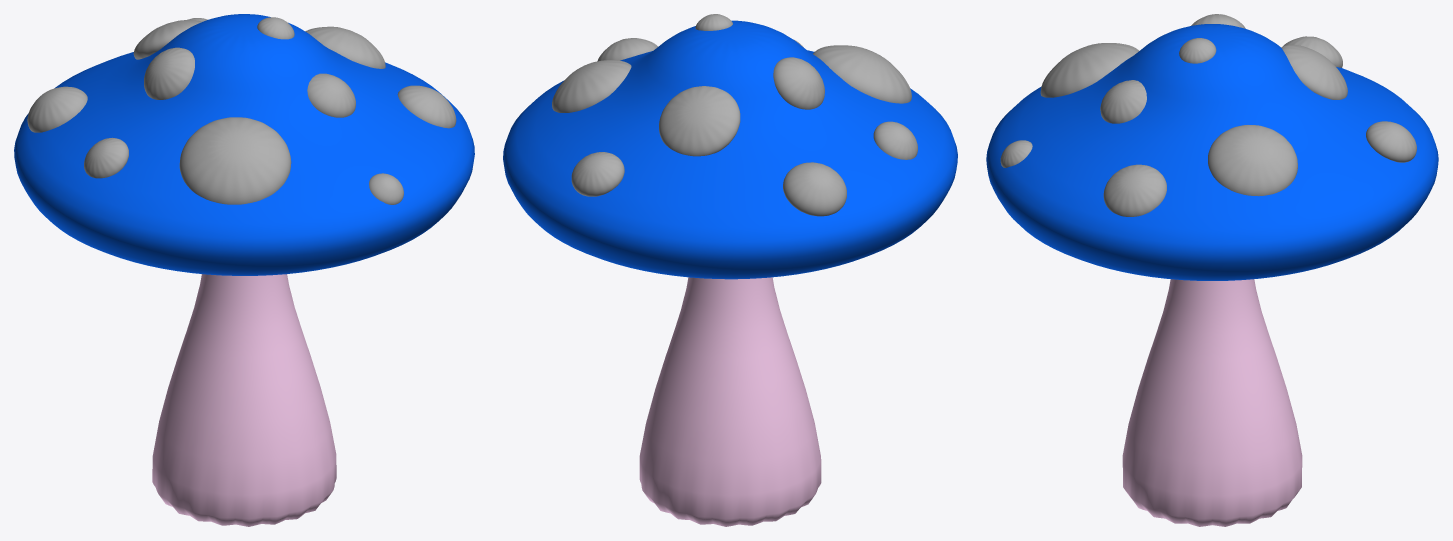
File: fin_mushroom.fbx
3 views of the same model, side by side, from view 1: azimuth 30°, elevation 25°; view 2: azimuth 150°, elevation 25°; view 3: azimuth 270°, elevation 25° (orthographic).
Parts seen in each view (by area): view 1: mushroom3, pCylinder4, pCylinder6, pCylinder5, pCylinder8, pCylinder12, pCylinder3, pCylinder9, pCylinder2, pCylinder10, pCylinder11; view 2: mushroom3, pCylinder2, pCylinder4, pCylinder5, pCylinder8, pCylinder6, pCylinder7, pCylinder9, pCylinder3; view 3: mushroom3, pCylinder8, pCylinder4, pCylinder3, pCylinder2, pCylinder12, pCylinder7, pCylinder11, pCylinder5, pCylinder10.
Part boxes in pixels (bbox=[...]): mushroom3: bbox=[14, 14, 474, 526]; pCylinder4: bbox=[179, 117, 291, 204]; pCylinder6: bbox=[144, 47, 194, 99]; pCylinder5: bbox=[27, 86, 87, 132]; pCylinder8: bbox=[305, 26, 385, 68]; pCylinder12: bbox=[307, 73, 355, 117]; pCylinder3: bbox=[397, 85, 456, 128]; pCylinder9: bbox=[84, 137, 128, 178]; pCylinder2: bbox=[133, 20, 202, 59]; pCylinder10: bbox=[369, 173, 403, 204]; pCylinder11: bbox=[257, 17, 294, 39]; mushroom3: bbox=[503, 20, 957, 526]; pCylinder2: bbox=[659, 86, 740, 156]; pCylinder4: bbox=[813, 45, 911, 103]; pCylinder5: bbox=[783, 162, 846, 216]; pCylinder8: bbox=[552, 60, 631, 112]; pCylinder6: bbox=[773, 57, 824, 109]; pCylinder7: bbox=[571, 152, 624, 196]; pCylinder9: bbox=[873, 121, 917, 159]; pCylinder3: bbox=[597, 38, 657, 61]; mushroom3: bbox=[986, 24, 1438, 526]; pCylinder8: bbox=[1208, 125, 1297, 196]; pCylinder4: bbox=[1040, 43, 1138, 97]; pCylinder3: bbox=[1103, 164, 1166, 216]; pCylinder2: bbox=[1281, 44, 1347, 99]; pCylinder12: bbox=[1100, 80, 1146, 123]; pCylinder7: bbox=[1366, 121, 1416, 162]; pCylinder11: bbox=[1179, 38, 1216, 63]; pCylinder5: bbox=[1283, 36, 1342, 67]; pCylinder10: bbox=[1000, 140, 1032, 167].
Size of the model in its own units: 39.26 by 44.48 by 39.26.
